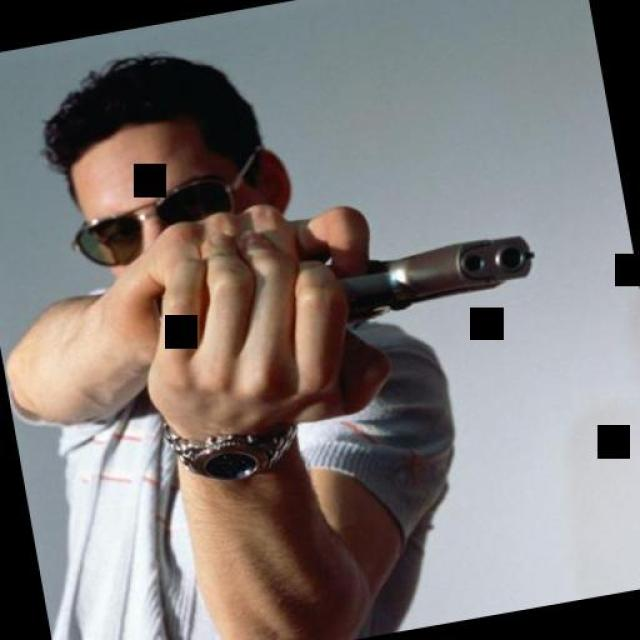gun: (282, 219, 548, 339)
